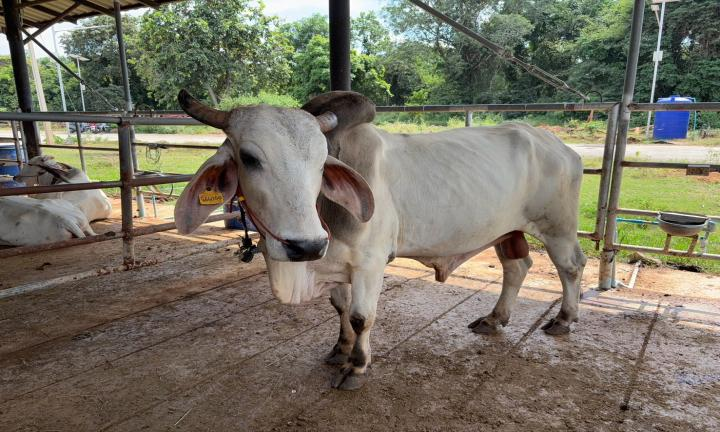Brahman: (175, 90, 586, 389)
